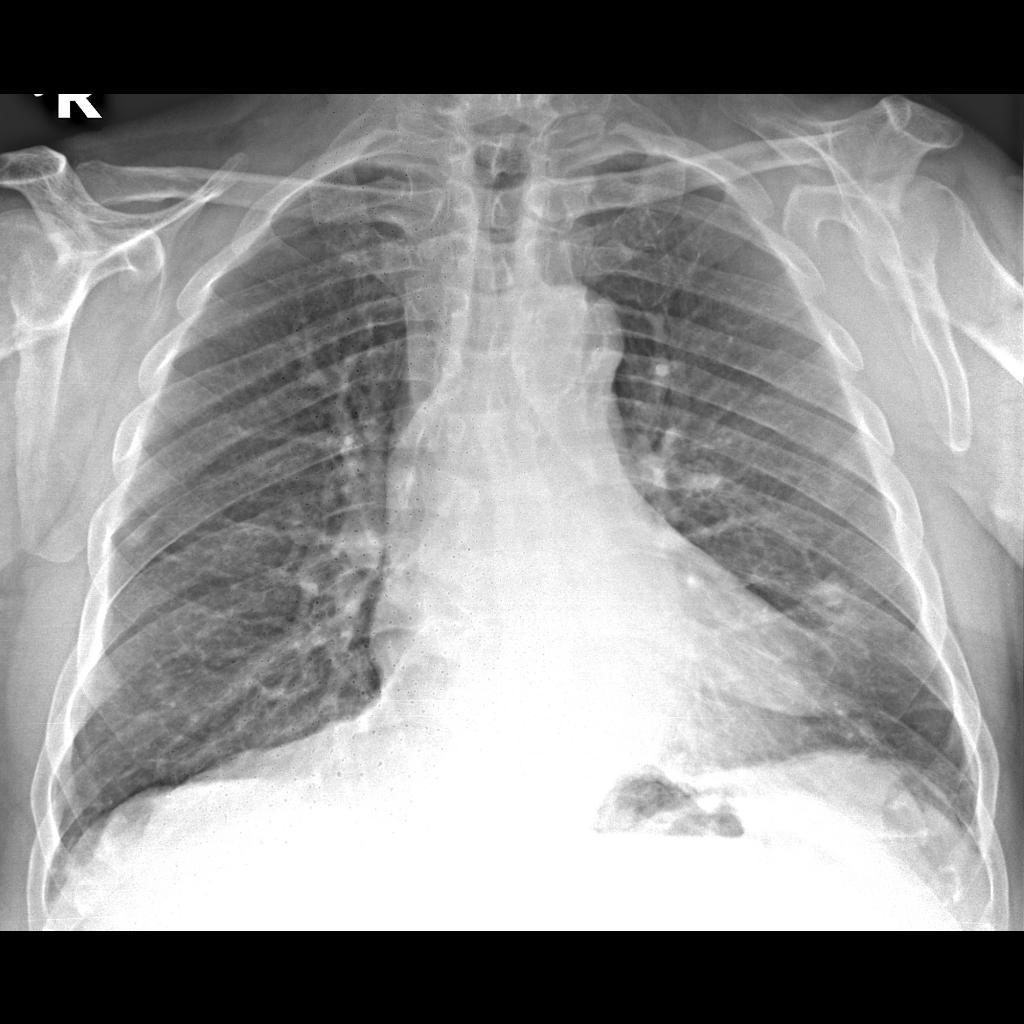Nodule: (792, 575, 855, 633)
